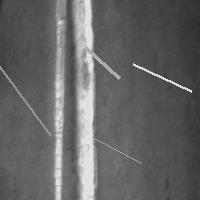scratches: (69, 1, 97, 199), (0, 62, 56, 141), (53, 1, 69, 200), (128, 59, 196, 96), (87, 132, 146, 168), (80, 42, 124, 83), (161, 170, 172, 193)
